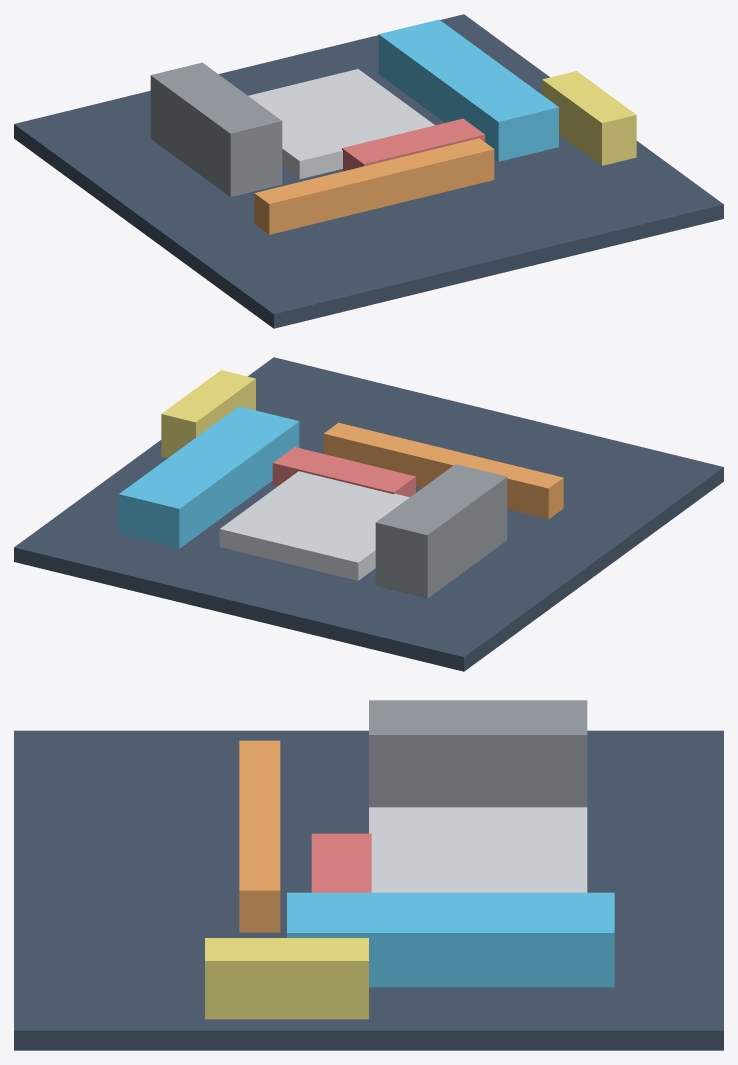
The model's file is pc_hardware_assembly.glb.
3 renders of one model, top to bottom at view 1: azimuth 30°, elevation 25°; view 2: azimuth 150°, elevation 25°; view 3: azimuth 270°, elevation 25°, orthographic. The views are drawn at different scales.
Parts seen in each view (by area): view 1: ATXMotherboard, DDR4RAMSlots, VRMHeatsinks, PCIe16xSlot, LGACPUSocket, ATX24PinPowerHeader, M2NVMeHeatsink; view 2: ATXMotherboard, DDR4RAMSlots, VRMHeatsinks, LGACPUSocket, PCIe16xSlot, ATX24PinPowerHeader, M2NVMeHeatsink; view 3: ATXMotherboard, DDR4RAMSlots, VRMHeatsinks, LGACPUSocket, ATX24PinPowerHeader, PCIe16xSlot, M2NVMeHeatsink.
Part boxes in pixels (<box>): ATXMotherboard: <box>14,14,723,328</box>; DDR4RAMSlots: <box>378,19,558,161</box>; VRMHeatsinks: <box>150,62,282,196</box>; PCIe16xSlot: <box>254,138,494,234</box>; LGACPUSocket: <box>248,69,434,178</box>; ATX24PinPowerHeader: <box>542,71,636,165</box>; M2NVMeHeatsink: <box>342,118,485,170</box>; ATXMotherboard: <box>14,357,723,671</box>; DDR4RAMSlots: <box>119,406,299,548</box>; VRMHeatsinks: <box>375,464,507,598</box>; LGACPUSocket: <box>219,471,409,580</box>; PCIe16xSlot: <box>323,422,563,519</box>; ATX24PinPowerHeader: <box>161,370,255,457</box>; M2NVMeHeatsink: <box>272,447,415,497</box>; ATXMotherboard: <box>14,730,723,1050</box>; DDR4RAMSlots: <box>287,892,614,987</box>; VRMHeatsinks: <box>369,700,587,807</box>; LGACPUSocket: <box>369,807,587,892</box>; ATX24PinPowerHeader: <box>205,938,368,1019</box>; PCIe16xSlot: <box>239,740,280,932</box>; M2NVMeHeatsink: <box>311,833,371,892</box>.
Size of the model in its own units: 2.6 by 0.435 by 2.6.
